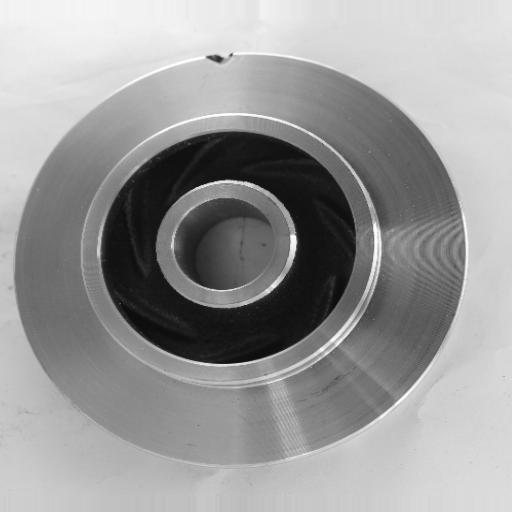crack: (193, 41, 246, 78)
unpolished_casting: (14, 50, 470, 471)
